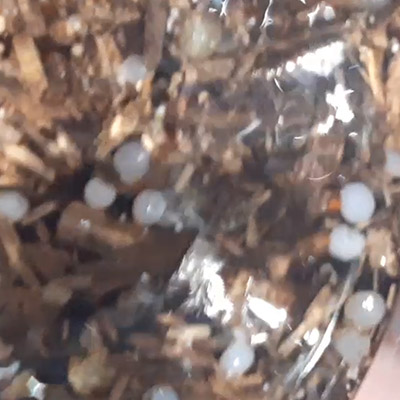nurdle: (333, 182, 380, 227), (216, 335, 262, 378), (343, 290, 389, 332), (129, 187, 167, 230), (324, 228, 365, 265), (115, 53, 152, 90), (111, 142, 148, 178), (1, 190, 35, 229)
